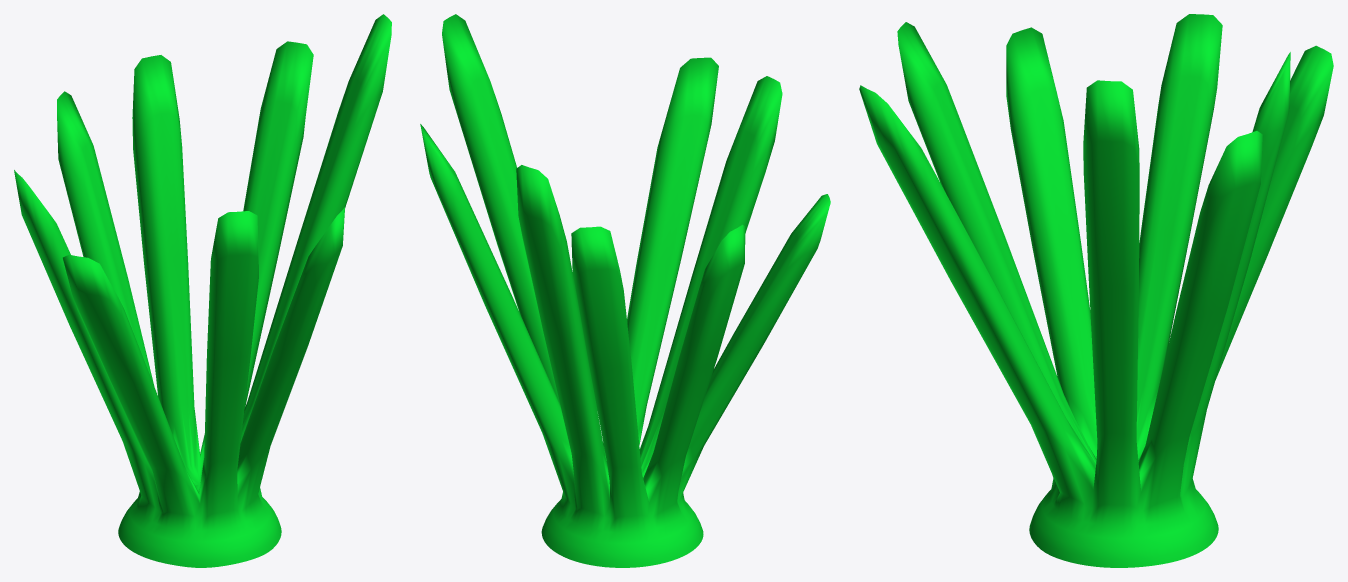
Rendered from CarrotStage1.fbx.
The picture shows the model from 3 angles, left to right: view 1: azimuth 30°, elevation 25°; view 2: azimuth 150°, elevation 25°; view 3: azimuth 270°, elevation 25°; orthographic projection. The views are drawn at different scales.
Parts seen in each view (by area): view 1: Sphere; view 2: Sphere; view 3: Sphere.
Part boxes in pixels (<box>): Sphere: <box>14,14,391,567</box>; Sphere: <box>420,14,830,567</box>; Sphere: <box>859,14,1333,567</box>.
Bounding box in the file's own units: 244 × 313 × 243.
